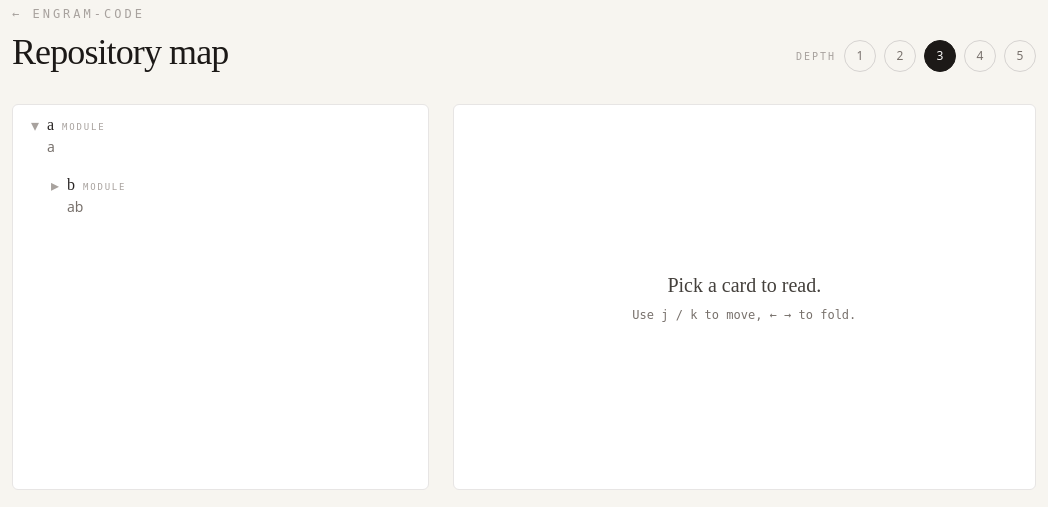
Test case: MapView expand/collapse › expanding a deep node reveals its grandchildren
Expected: the text "b" is shown, [67,173,75,197]
toggles[0] is for 'a' (already expanded), toggles[1] is for 'a/b'.
Click the button with test id "map-row-toggle" showing "▸" at (55, 185), box [47,177,63,193]
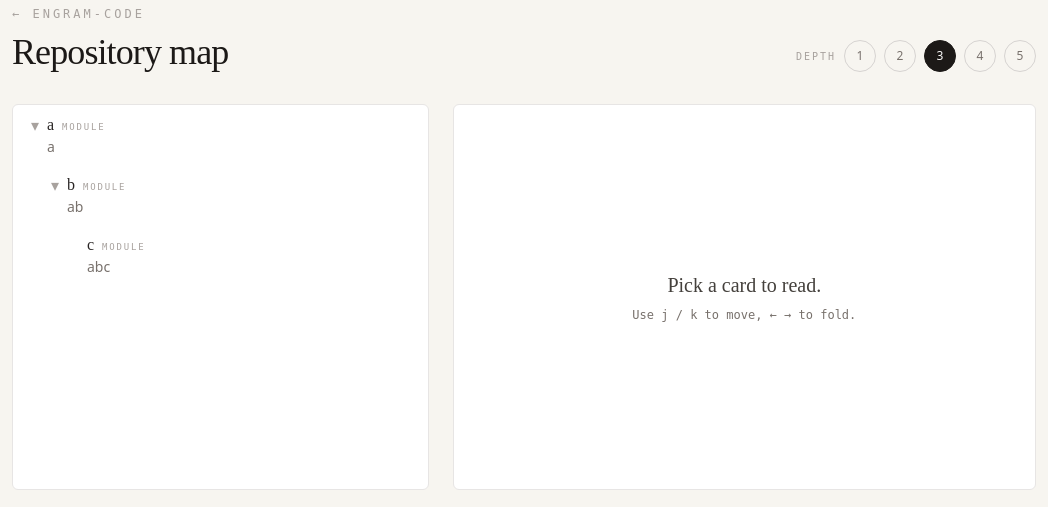
Result: the text "c" is shown at [87,233,94,257]
